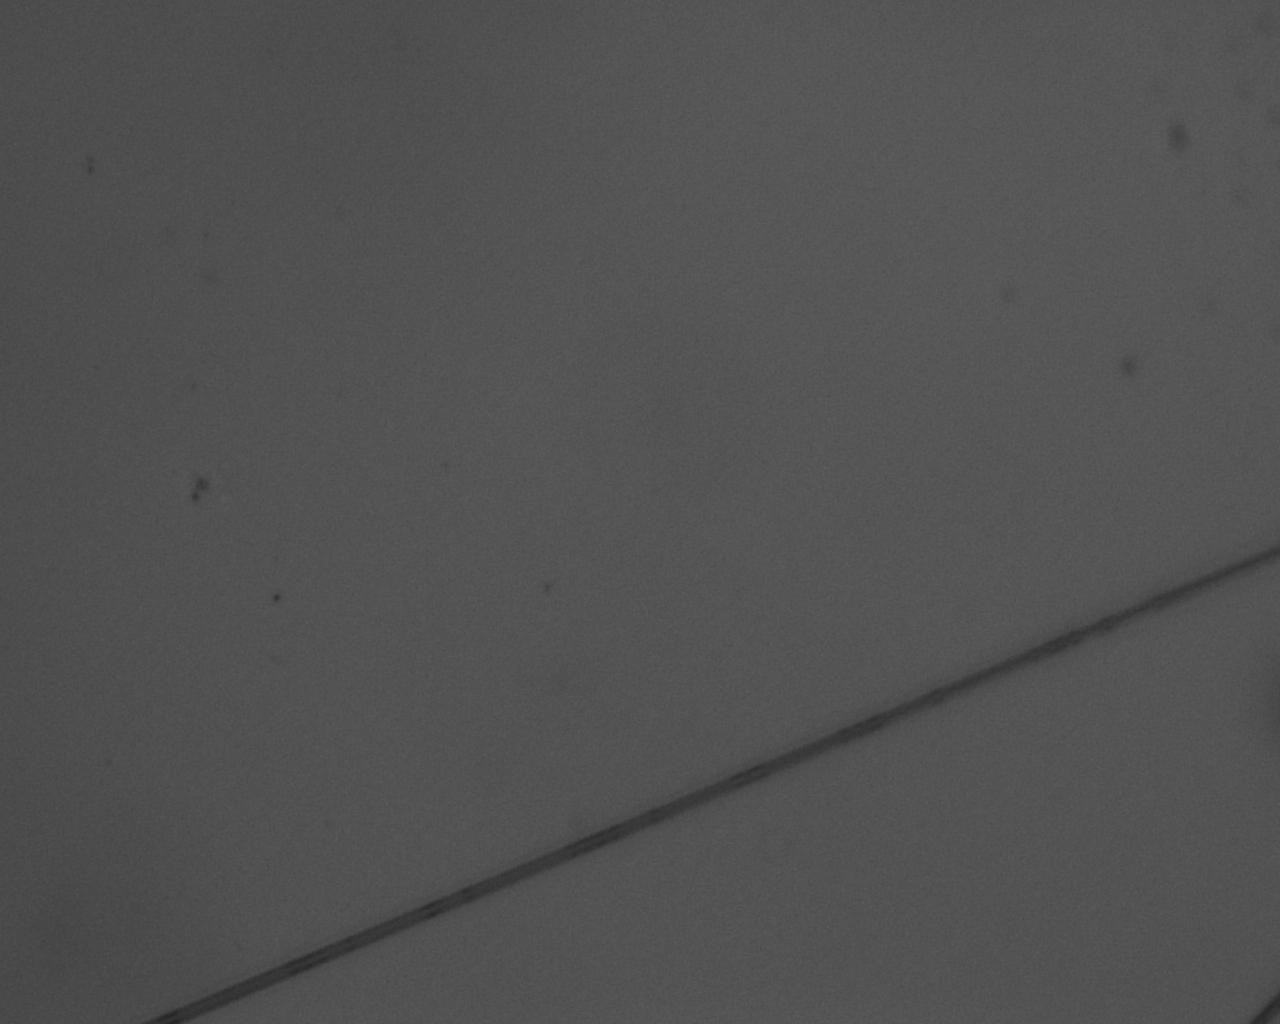fiber: (334, 307, 666, 1024), (0, 56, 857, 206), (938, 307, 1280, 558), (857, 214, 1280, 307)
